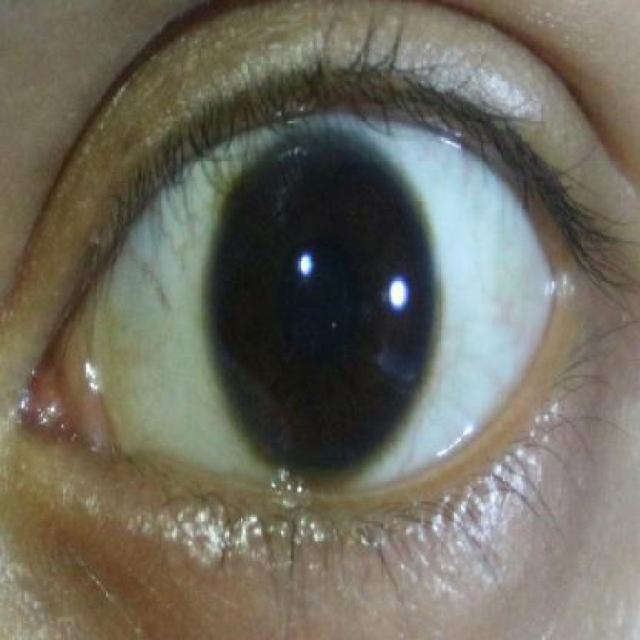Normal: (204, 131, 445, 481)
